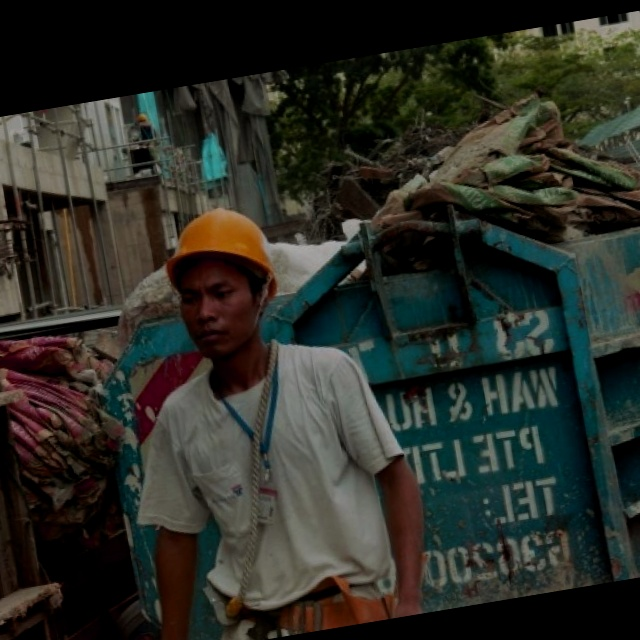Con_Casco: (155, 202, 285, 355)
Sin_Chaleco: (151, 333, 386, 610)
